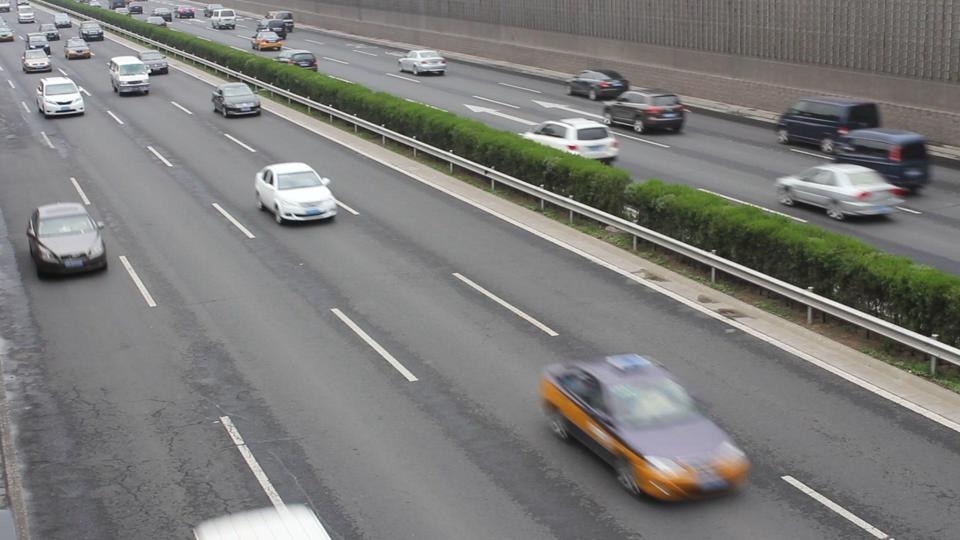car: (538, 352, 753, 503), (775, 163, 909, 222), (828, 126, 933, 194), (25, 202, 109, 278), (253, 162, 338, 225), (519, 118, 623, 165), (602, 87, 690, 134), (34, 77, 87, 117), (568, 68, 630, 100), (210, 83, 262, 118), (398, 50, 448, 76), (274, 49, 320, 71), (261, 4, 293, 32), (21, 47, 53, 73), (249, 30, 286, 51), (144, 45, 174, 68), (64, 38, 94, 60), (79, 21, 105, 42), (0, 23, 16, 43), (176, 2, 198, 15), (153, 9, 170, 20)
truck: (774, 96, 883, 154), (107, 56, 151, 96), (208, 9, 237, 30)
